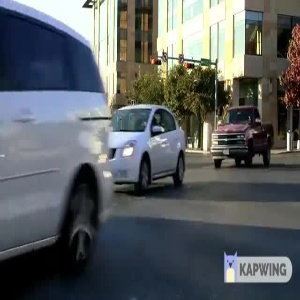car: (88, 96, 191, 191)
truck: (203, 97, 281, 173)
